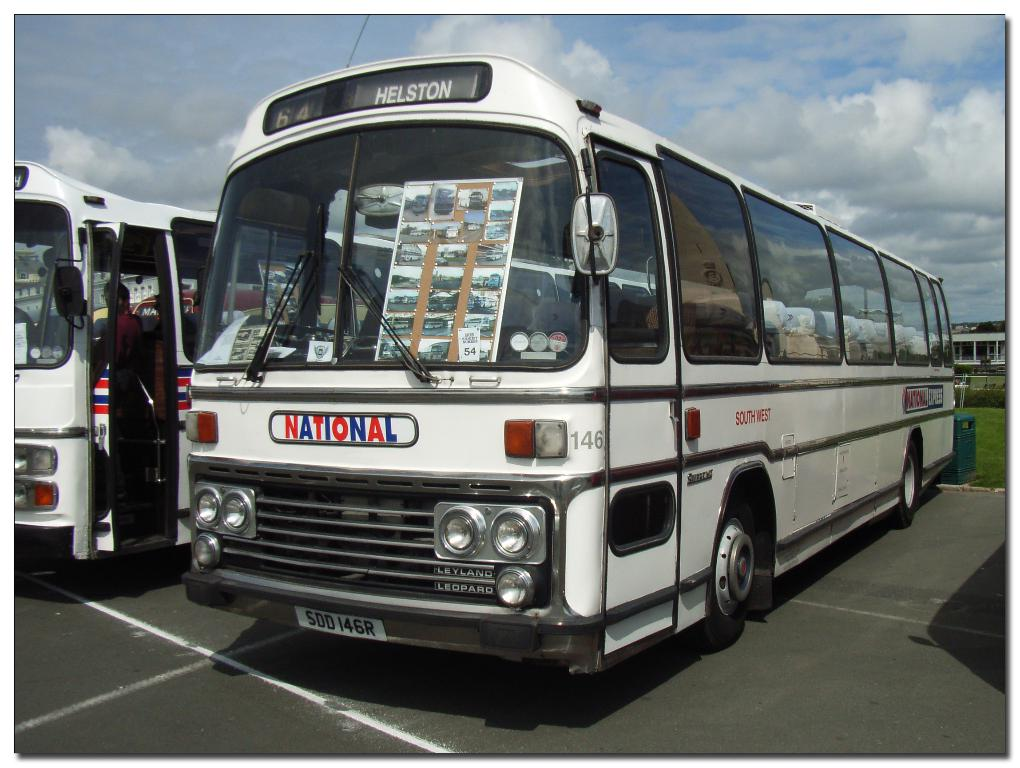Bus: (184, 50, 963, 676), (10, 163, 662, 562)
